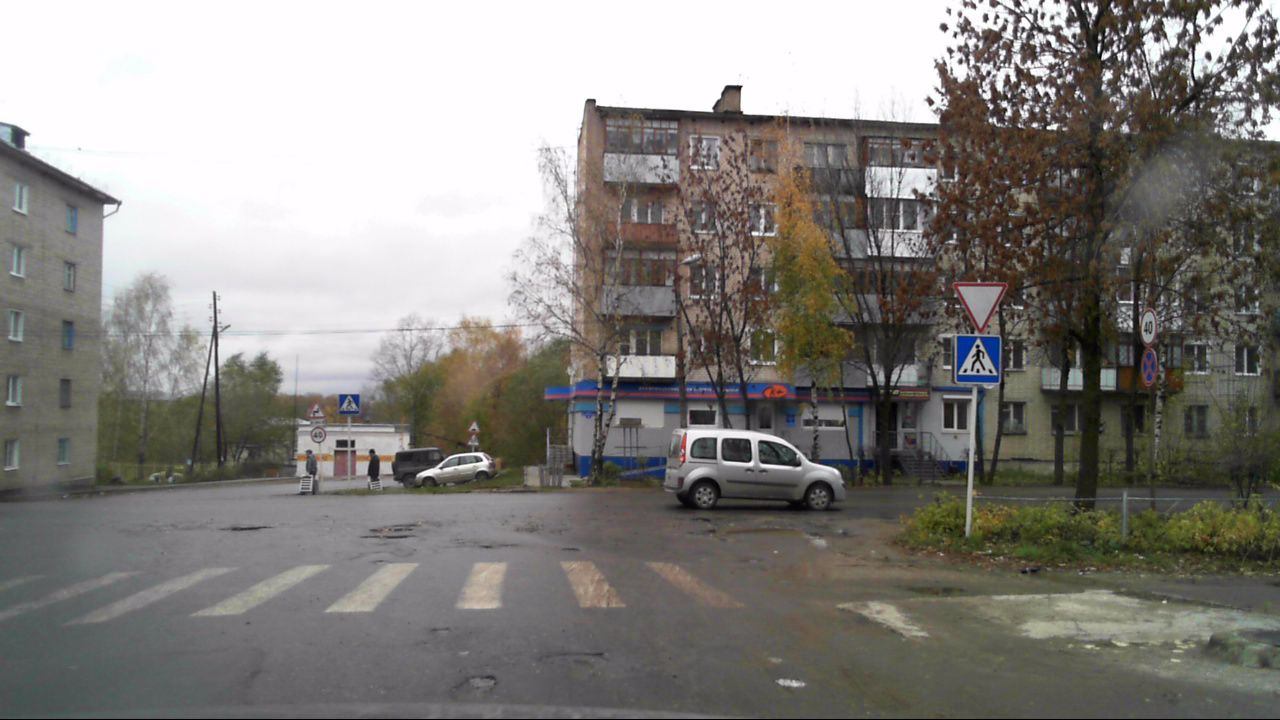No Parking: (1139, 347, 1158, 387)
speed_warning_40: (308, 425, 329, 445)
